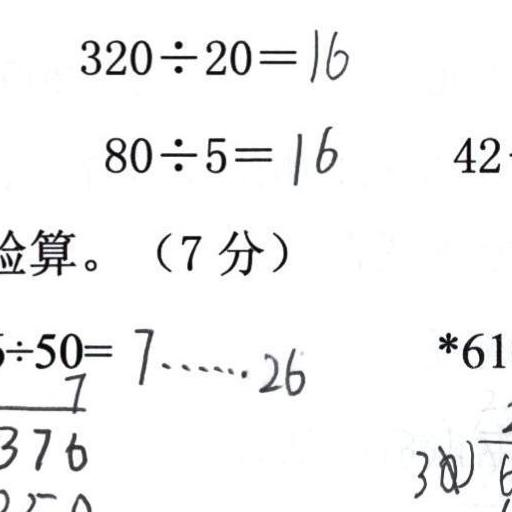ans: (127, 321, 306, 398), (284, 119, 338, 183), (303, 22, 349, 81)
